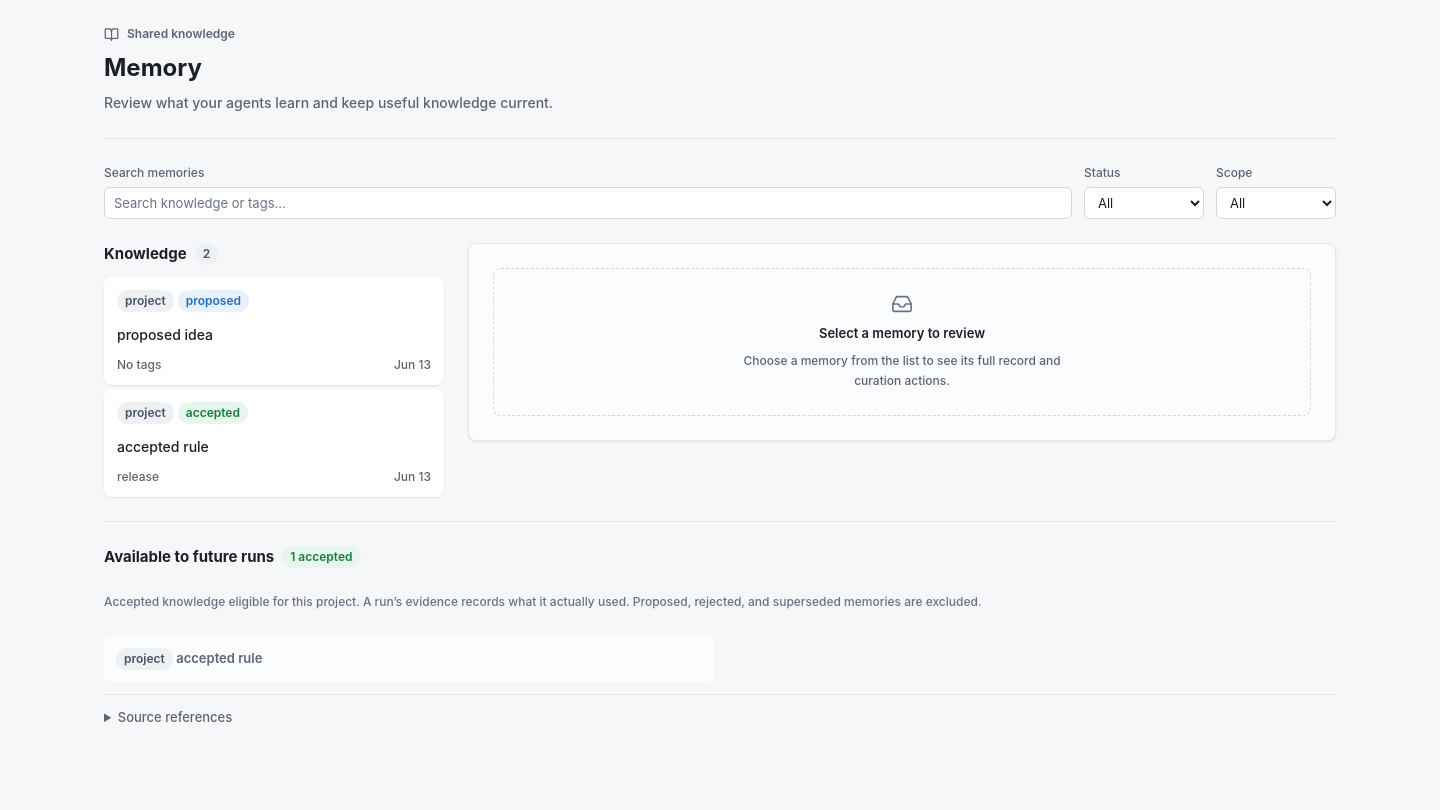
Test: MemoryPage › searches content and tags without changing context eligibility
The image size is (1440, 810).
Expected: the text "proposed idea" is shown, [117, 324, 213, 345]
Type "release" into the field labelled "Search memories" at (588, 203), box [104, 187, 1072, 219]
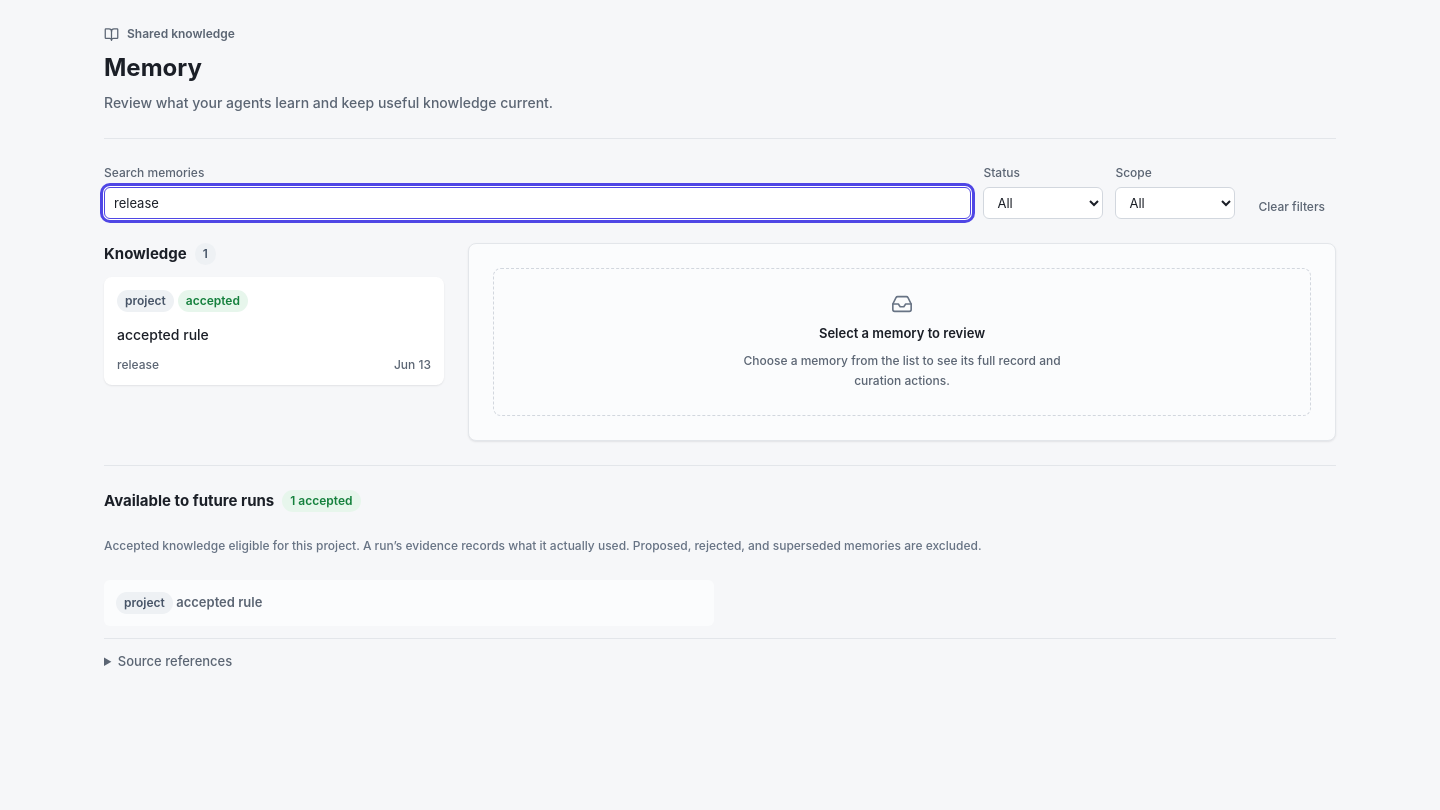
Expected: the 1st text "accepted rule" is shown, [117, 324, 209, 345]
Expected: the button "proposed idea" is gone
Click the button "Clear filters" at (1292, 206), box [1247, 193, 1336, 219]
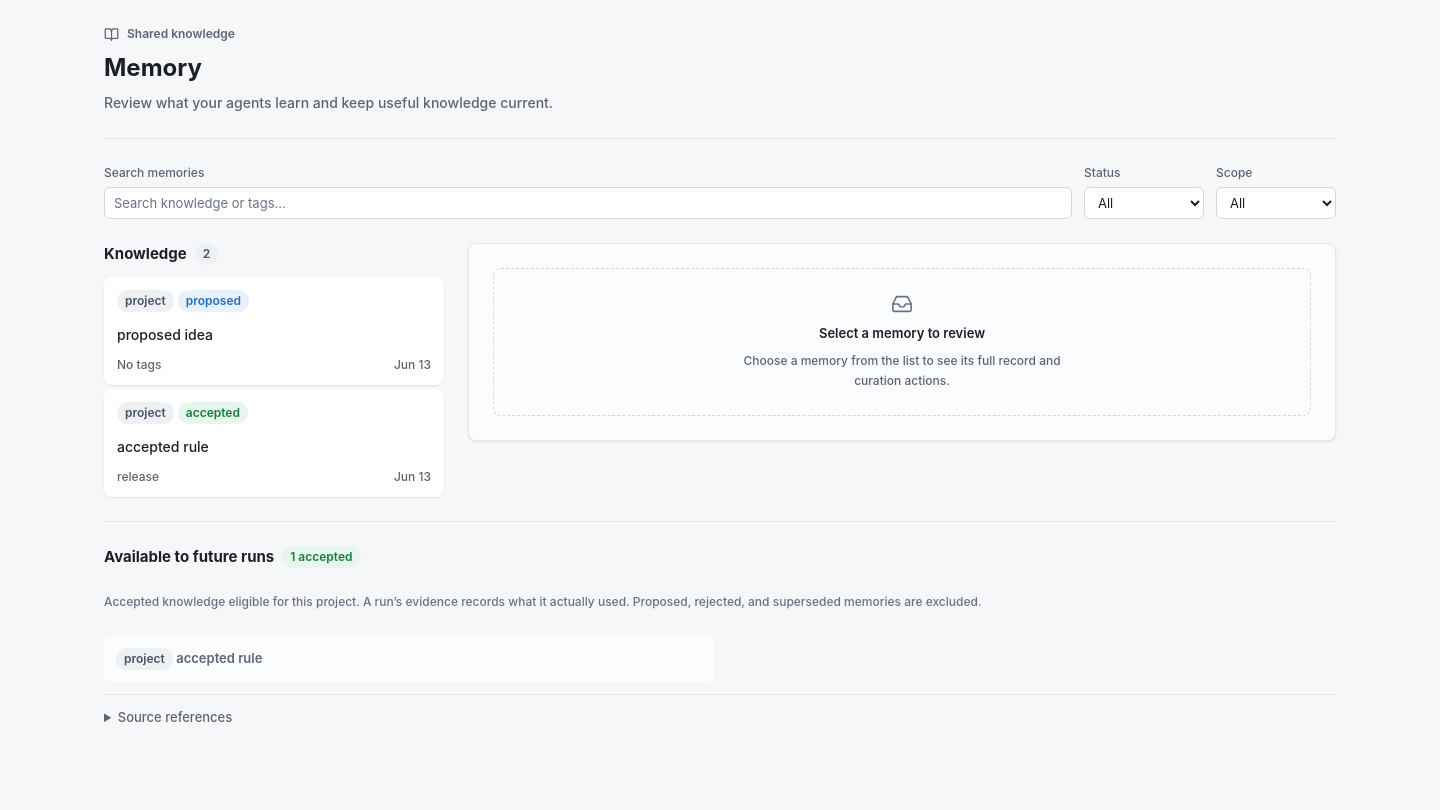
Expected: the text "proposed idea" is shown, [117, 324, 213, 345]
